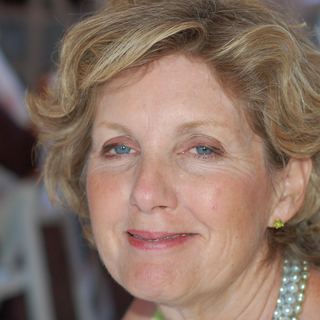eye: (180, 139, 228, 164), (98, 138, 144, 163)
